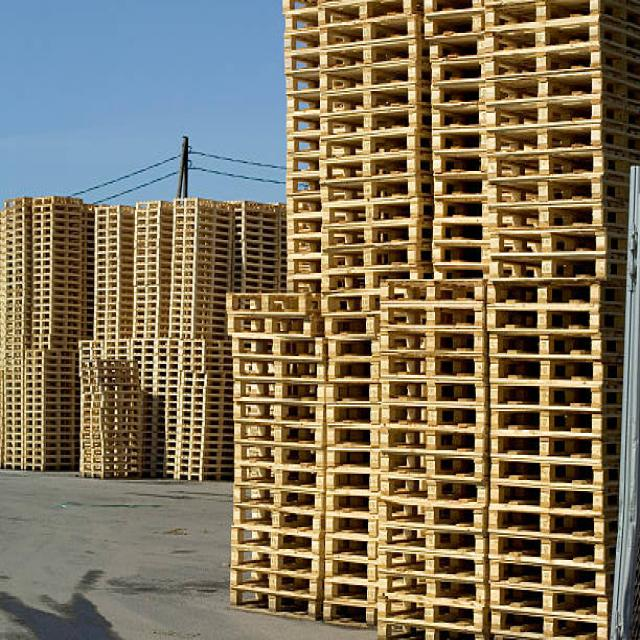Wooden-Pallets: (487, 372, 615, 431), (479, 116, 602, 161), (375, 466, 484, 516), (222, 386, 329, 434), (376, 542, 484, 589), (485, 222, 610, 260), (226, 327, 323, 372), (375, 371, 480, 411), (221, 287, 310, 329), (374, 274, 483, 307), (228, 434, 324, 471)
